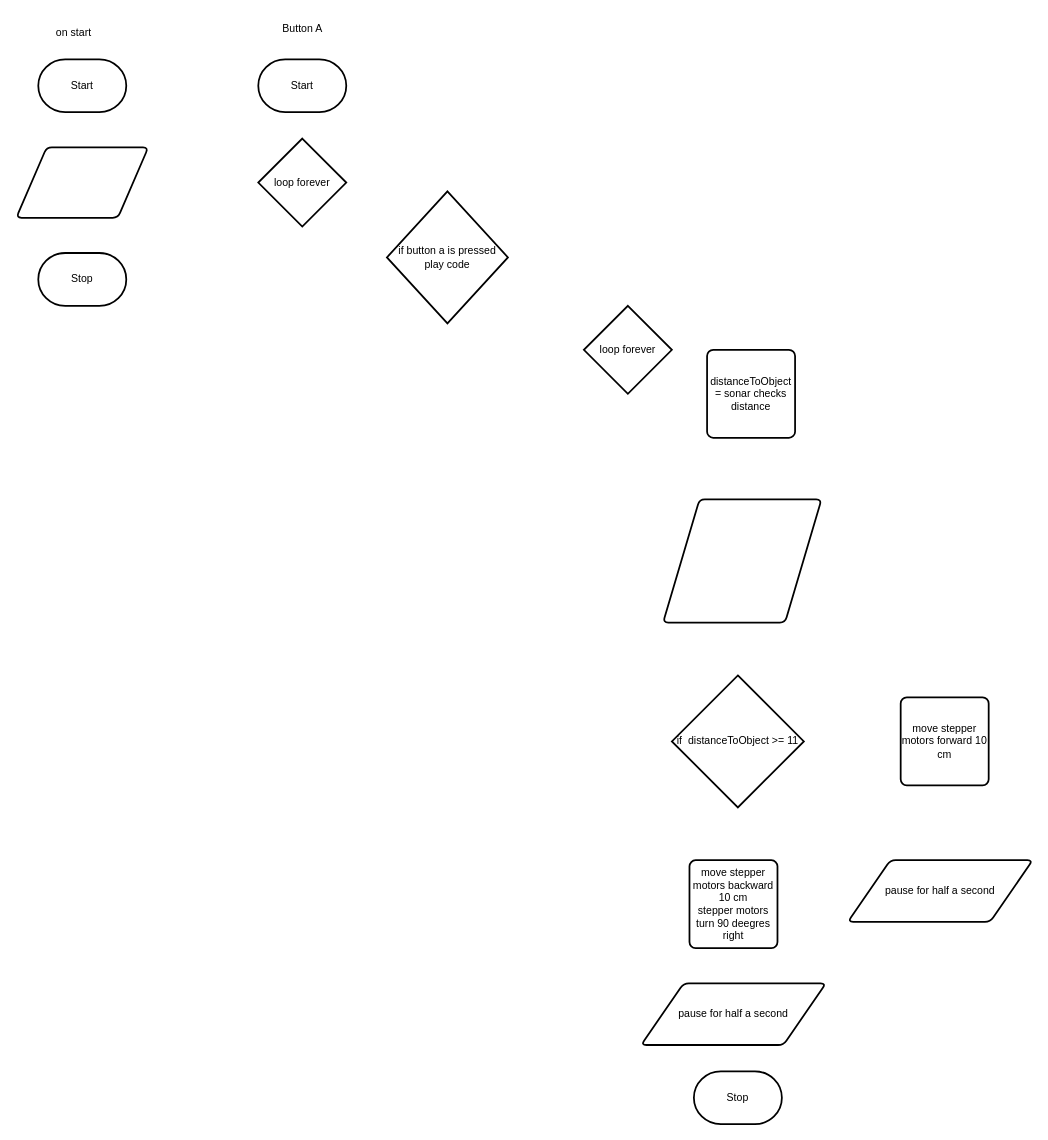
This 1048x1140 diagram has some shape labels left out. Each missing label, with the box of its shape:
display distanceToObject followed by "cm": (662, 498, 822, 623)
display happy face: (15, 146, 149, 218)
